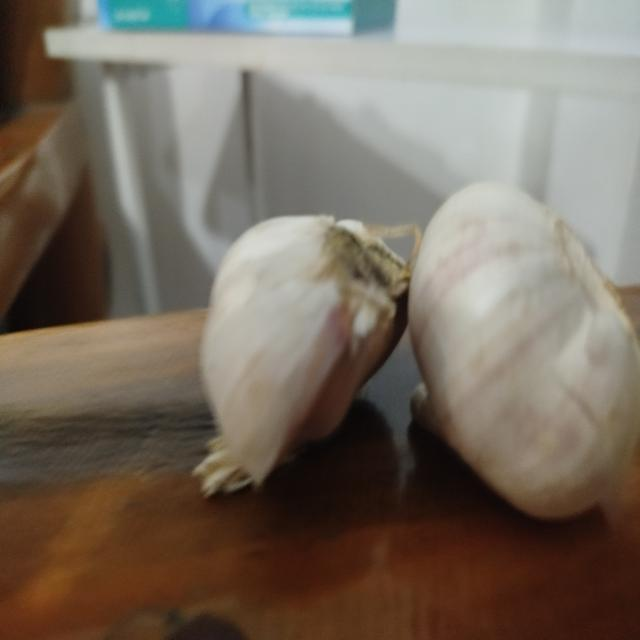garlic: (407, 179, 639, 521), (192, 213, 422, 499)
